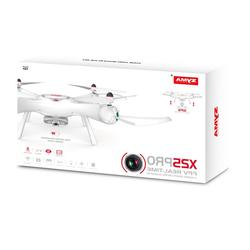drone: (16, 76, 171, 151), (159, 87, 205, 115)
